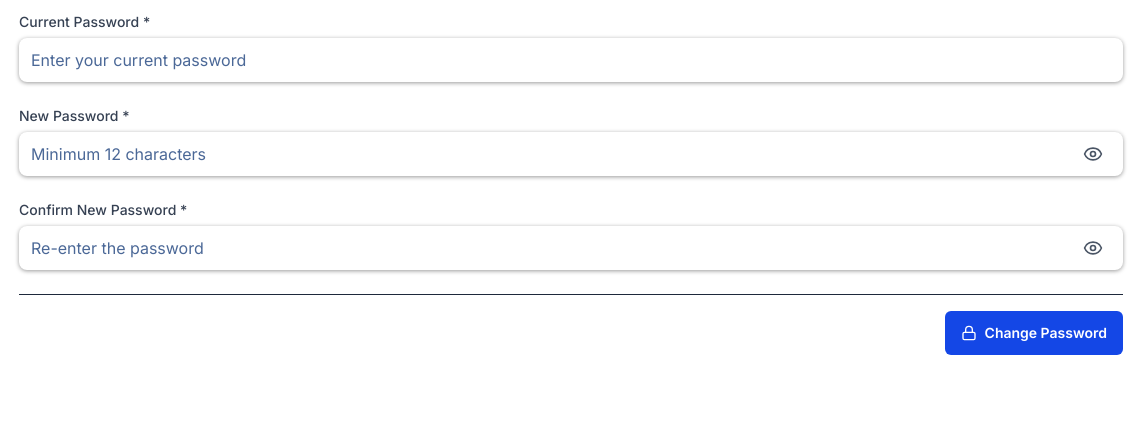
Test case: PasswordSettings › validates minimum password length
Type "Current123!" into the password field with placeholder "Enter your current password" at coordinates (571, 60), box [19,38,1123,82]
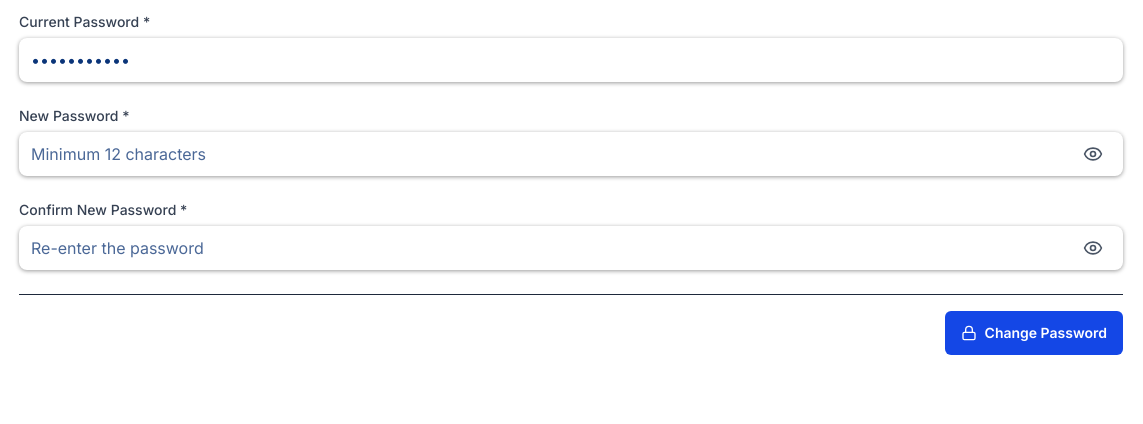
Type "Short1!" into the password field with placeholder "Minimum 12 characters" at coordinates (571, 154), box [19,132,1123,176]
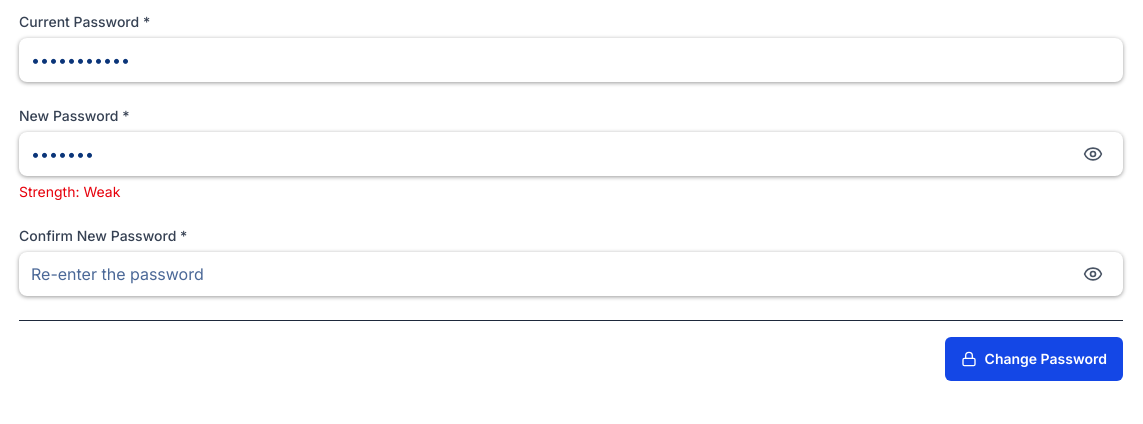
Click the button "Change Password" at coordinates (1034, 359), box [945,337,1123,381]
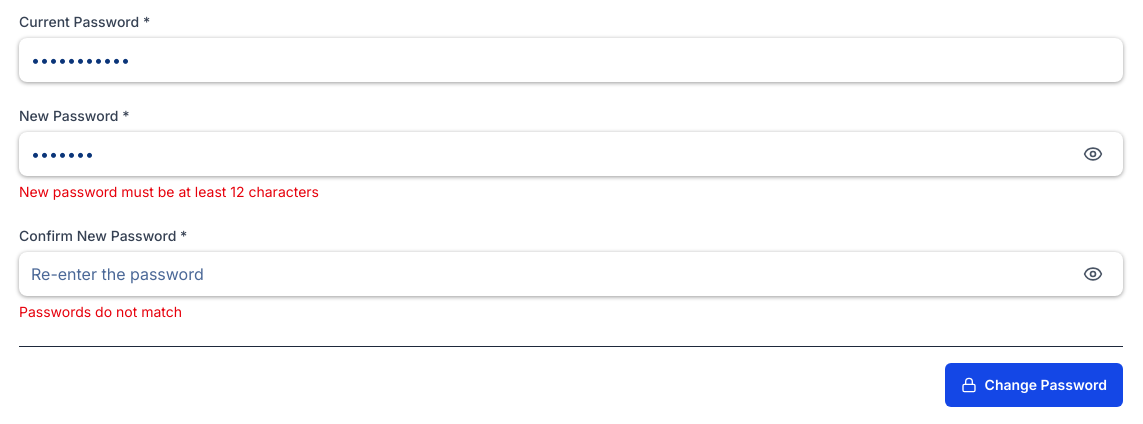
Now the text "New password must be at least 12 characters" is shown, box [19,183,319,200]
